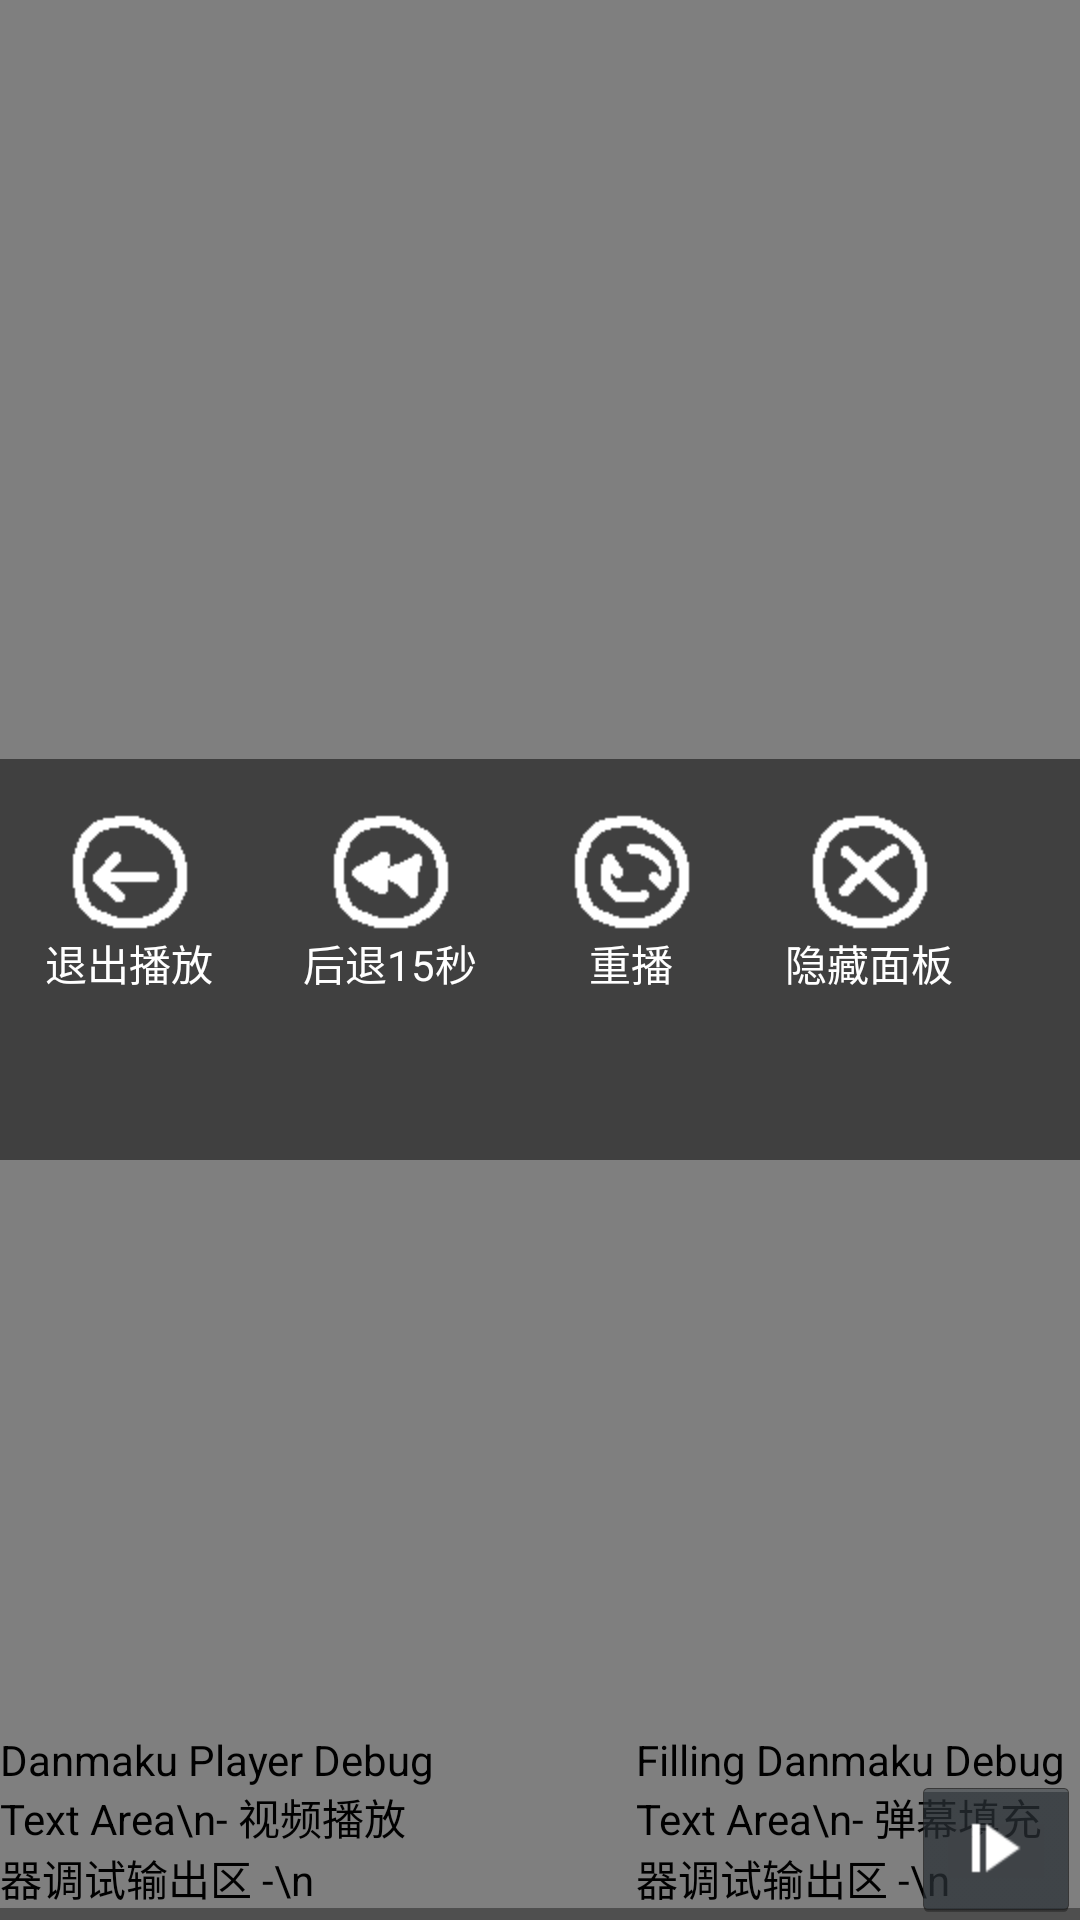

Icons on this 1080*1920 Android screen, each with its box as (x1, y1, x2, y2):
vplay step: (912, 1776, 1080, 1920)
